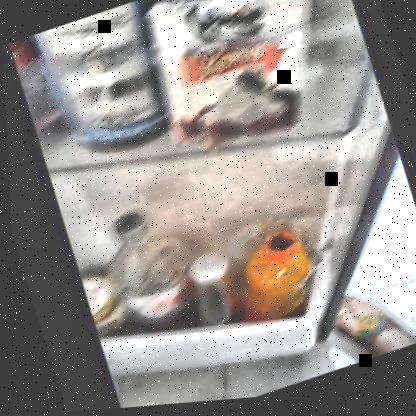heavy_cream: (141, 0, 336, 163)
